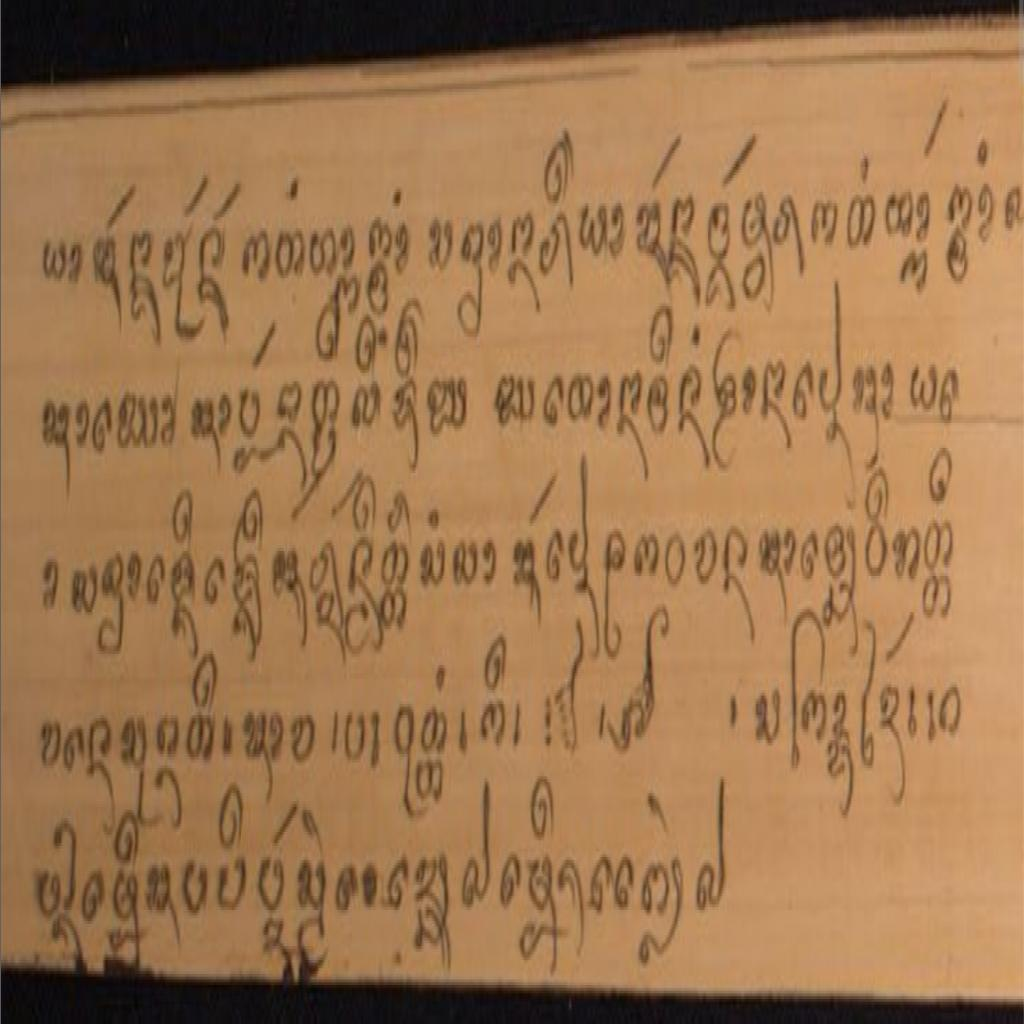LN015: (456, 216, 487, 346)
LN023: (722, 519, 752, 607)
